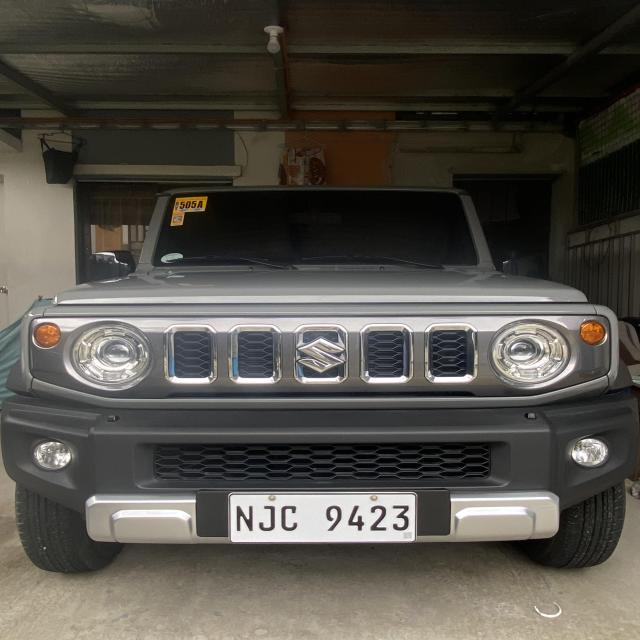number: (229, 492, 417, 543)
